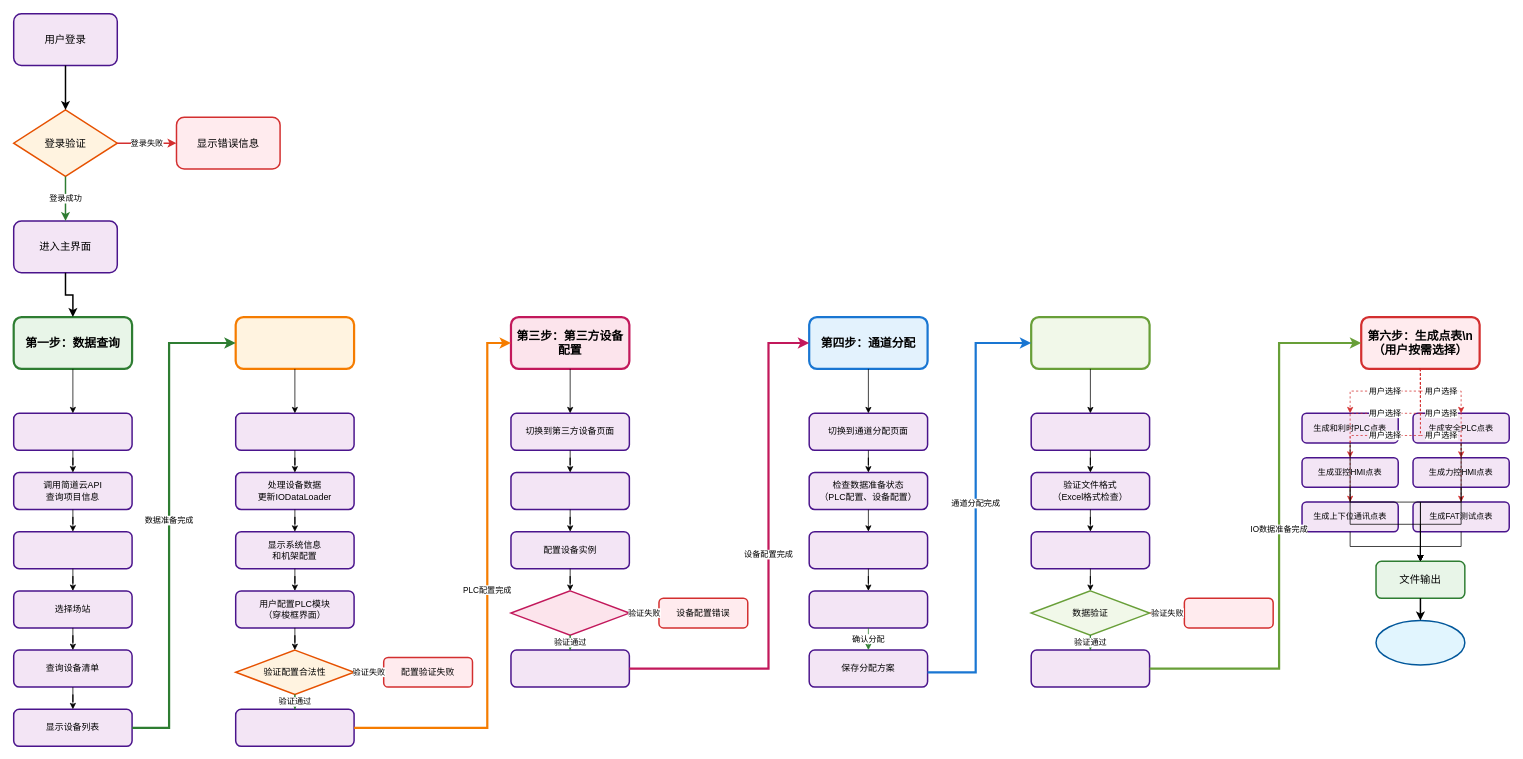
Some shapes in this 1523 by 759 pixel diagram are drawn without their labels. Each missing label, with the centre of its shape:
"保存PLC配置 生成通道地址" goes at (x=294, y=727).
"保存第三方设备配置" goes at (x=570, y=668).
"切换到PLC配置页面" goes at (x=294, y=431).
"创建/选择设备模板" goes at (x=570, y=490).
"存储IO点表数据 更新数据库" goes at (x=1090, y=668).
"完成" goes at (x=1420, y=642).
"执行通道分配 （模块感知、负载均衡）" goes at (x=868, y=609).
"数据验证失败" goes at (x=1228, y=612).
"显示项目列表" goes at (x=72, y=550).
"第二步：PLC硬件配置" goes at (x=294, y=343).
"第五步：上传IO点表" goes at (x=1090, y=343).
"解析Excel文件 提取IO点数据" goes at (x=1090, y=550).
"输入项目编号" goes at (x=72, y=431).
"选择IO点表文件" goes at (x=1090, y=431).
"选择分配方式（自动/手动）" goes at (x=868, y=550).
"验证设备配置" goes at (x=570, y=613).
